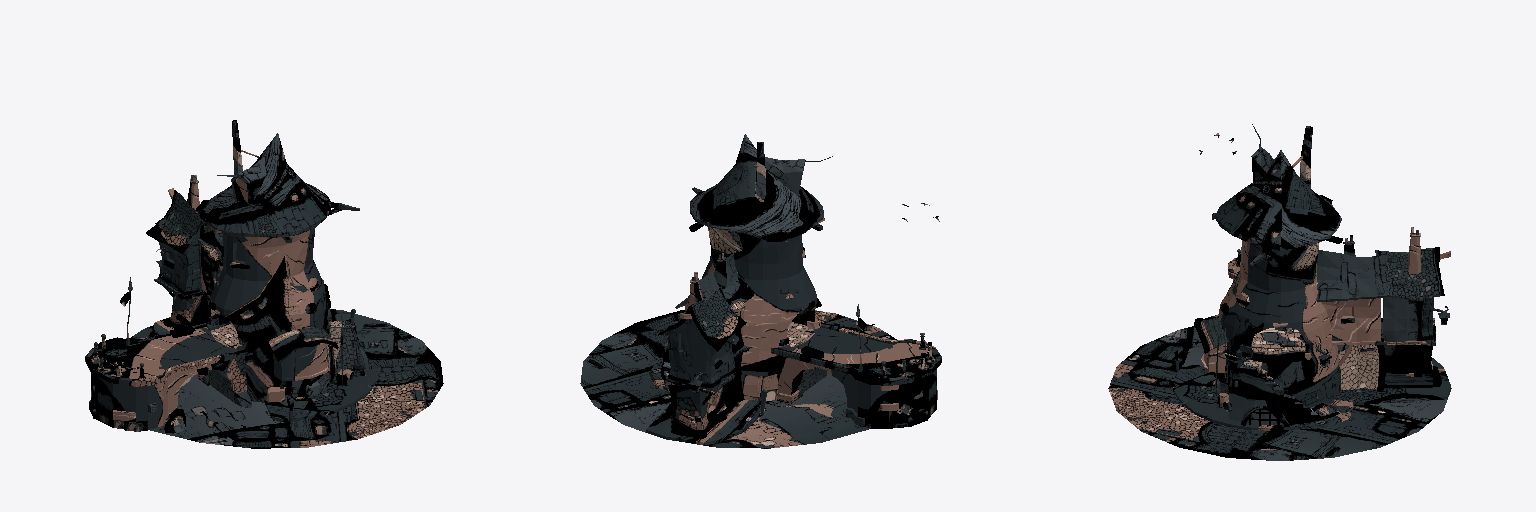
3 views of the same model, side by side, from view 1: azimuth 30°, elevation 25°; view 2: azimuth 150°, elevation 25°; view 3: azimuth 270°, elevation 25° (orthographic).
Visible parts, largest first — view 1: houses.002; view 2: houses.002; view 3: houses.002.
Boxes of the visible parts, <box> form: houses.002: <box>85,120,443,448</box>; houses.002: <box>580,134,941,448</box>; houses.002: <box>1108,124,1451,460</box>.
Bounding box in the file's own units: 24.73 × 17.91 × 22.21.
1 materials, 1 textured.